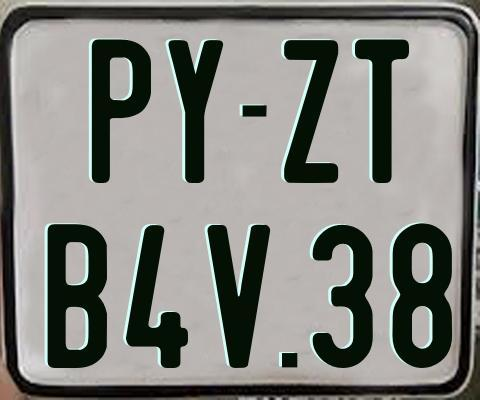3: (312, 223, 377, 369)
4: (123, 223, 186, 367)
8: (391, 220, 454, 368)
B: (45, 222, 105, 368)
P: (89, 36, 153, 183)
T: (353, 36, 410, 180)
V: (208, 223, 270, 369)
Y: (168, 38, 227, 184)
Z: (284, 37, 340, 180)
